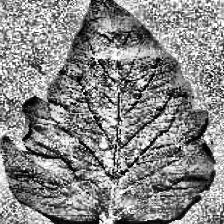spider mites: (2, 0, 212, 221)
